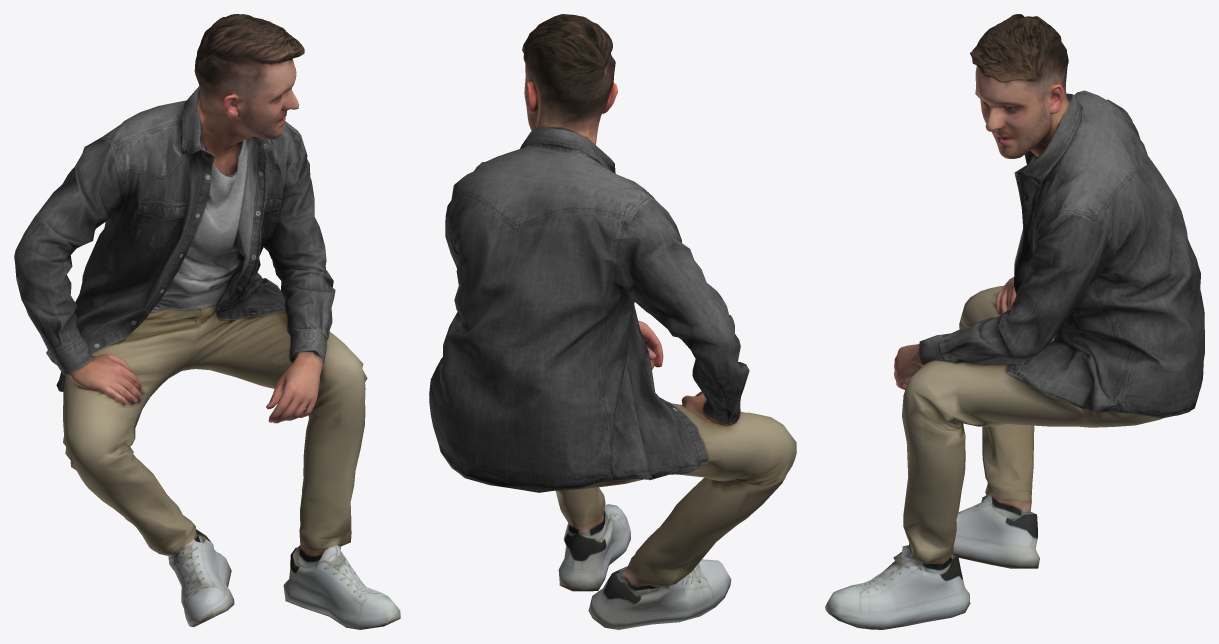
File: Humano_Posed_0341842-Man_01_LOD2.fbx
The picture shows the model from 3 angles, left to right: view 1: azimuth 30°, elevation 25°; view 2: azimuth 150°, elevation 25°; view 3: azimuth 270°, elevation 25°; orthographic projection. The views are drawn at different scales.
Parts seen in each view (by area): view 1: Humano_Posed_0341842-Man_01_LOD2; view 2: Humano_Posed_0341842-Man_01_LOD2; view 3: Humano_Posed_0341842-Man_01_LOD2.
Part boxes in pixels (x1,y1,x2,y2): Humano_Posed_0341842-Man_01_LOD2: (14, 14, 400, 629); Humano_Posed_0341842-Man_01_LOD2: (429, 14, 796, 629); Humano_Posed_0341842-Man_01_LOD2: (825, 14, 1204, 629).
Bounding box in the file's own units: 69.61 × 134 × 80.11.
1 material, 1 textured.
